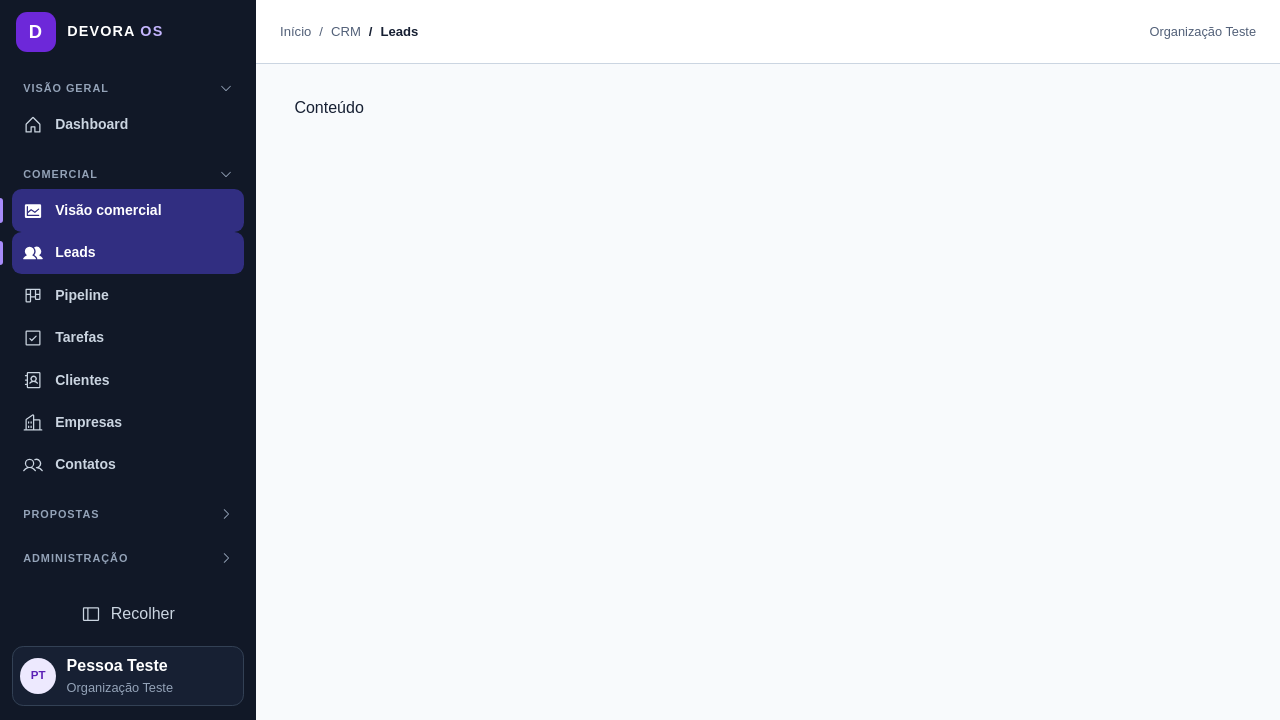
Test case: app shell › persists the collapsed desktop sidebar
Click the button with aria-label "Recolher menu": click(128, 614) [12,594,244,634]
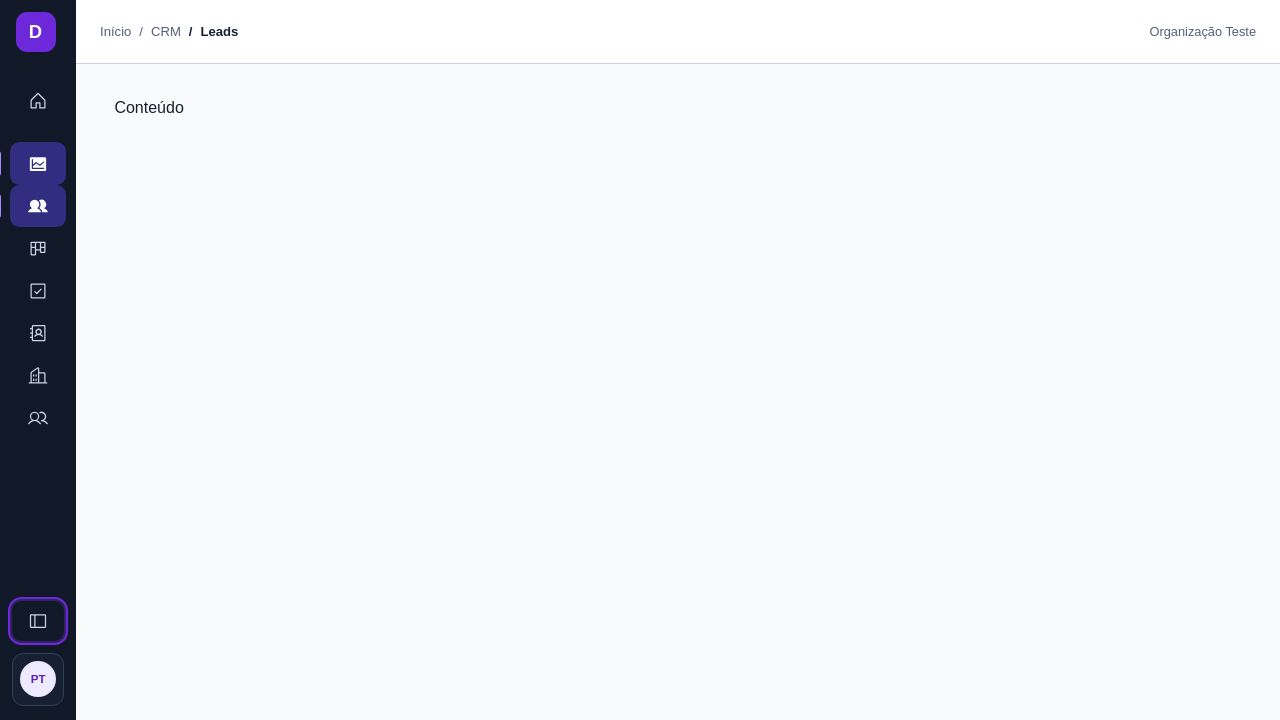
Check: the button named "Expandir menu" is shown, box [12,601,64,641]
